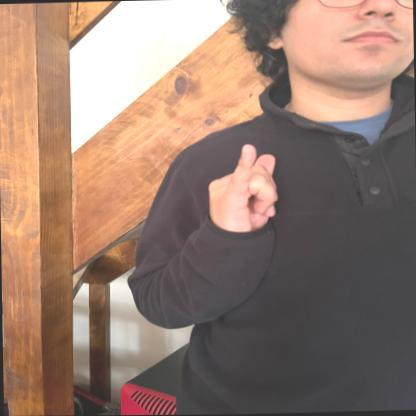I: (206, 141, 284, 249)
